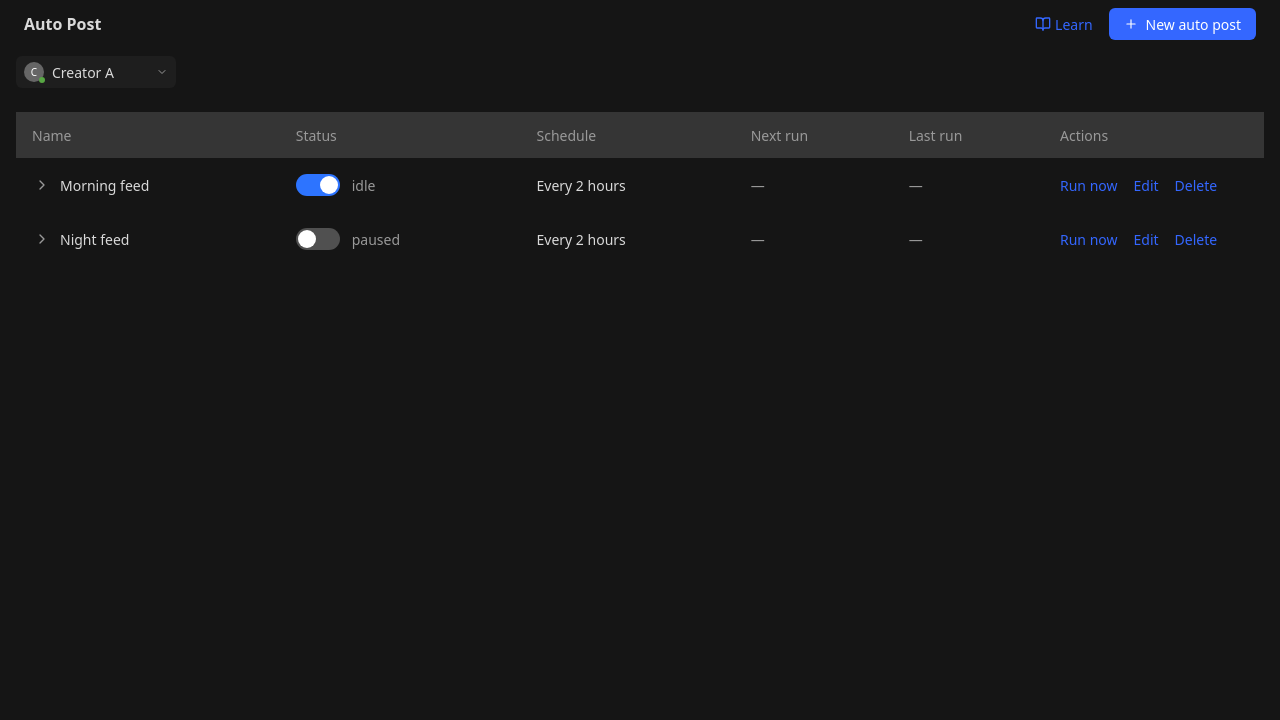
Test: Auto Post (ReadyMadePanel only=auto_posts) › Edit opens the rule in the editor dialog
Expected: the text "Morning feed" is shown, [60,174,149,196]
Click the button "Edit" in the row of "Morning feed".
click(1146, 185)  # box [1134,174,1159,196]
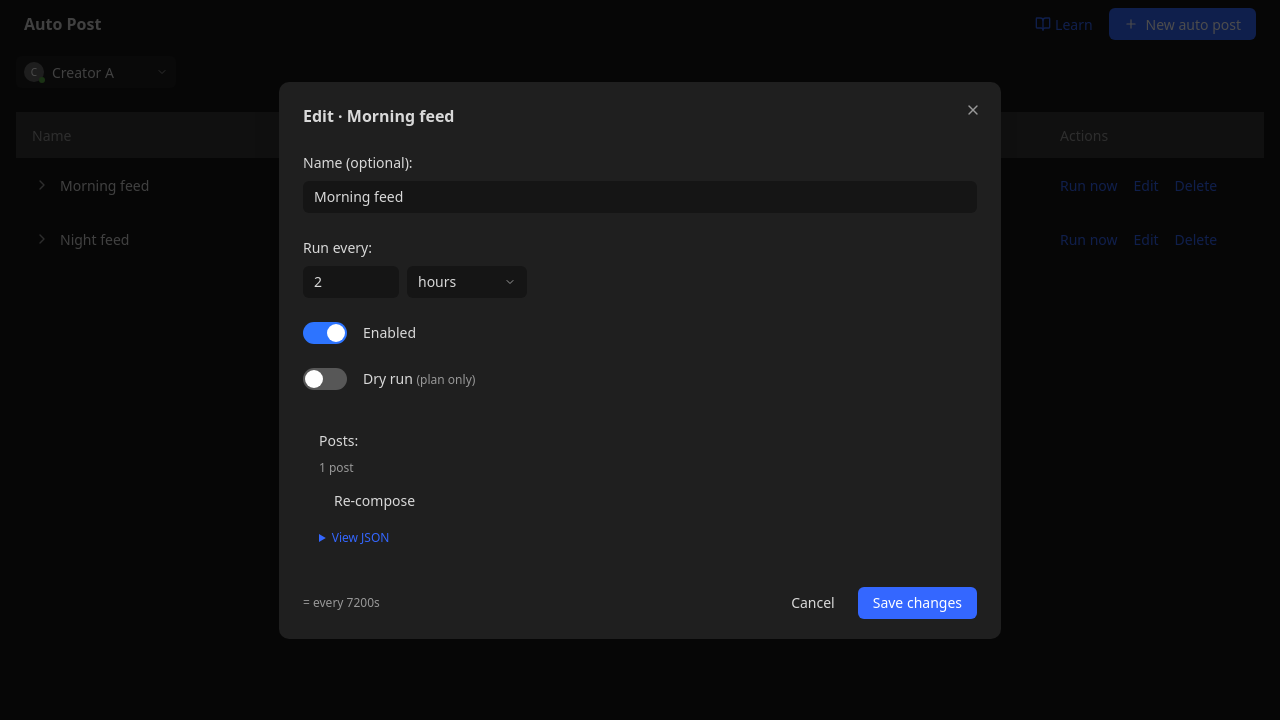
Expected: the field labelled "Name (optional):" holds "Morning feed", [303,180,977,212]
Expected: the number field labelled "Run every:" holds "2", [303,266,399,298]
